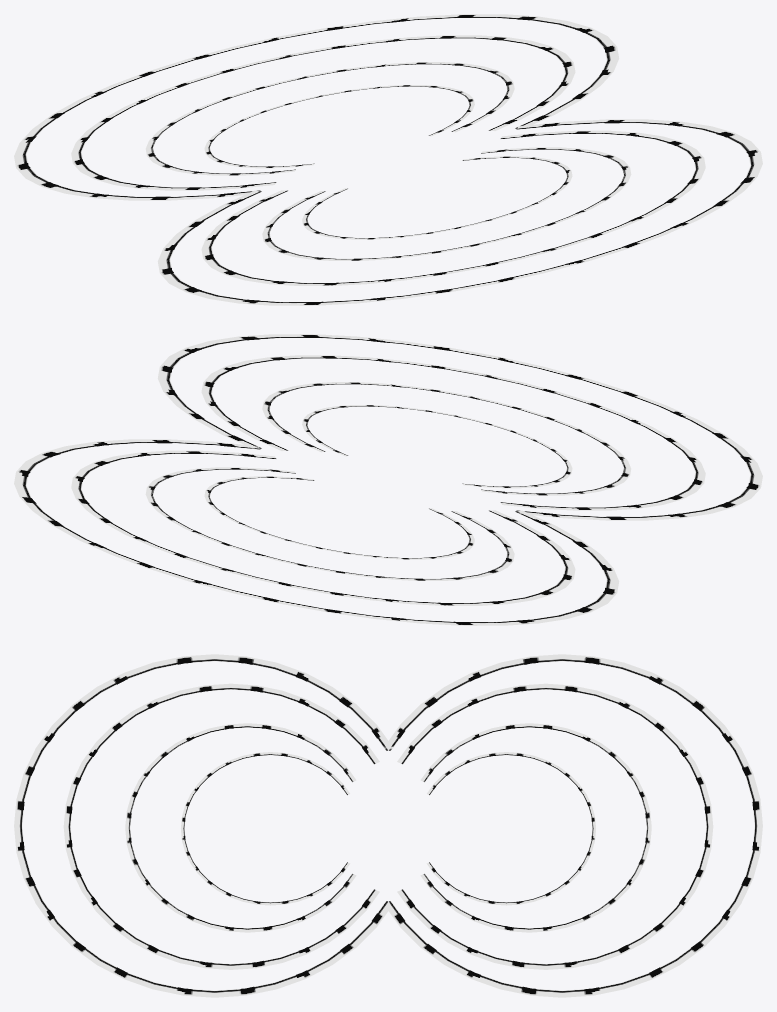
The model's file is magnetLines_v03.fbx.
The picture shows the model from 3 angles, top to bottom: view 1: azimuth 30°, elevation 25°; view 2: azimuth 150°, elevation 25°; view 3: azimuth 270°, elevation 25°; orthographic projection. The views are drawn at different scales.
Visible parts, largest first — view 1: pPipe1 (×2), pPipe2 (×2), pPipe3 (×2), pPipe4 (×2); view 2: pPipe1 (×2), pPipe2 (×2), pPipe3 (×2), pPipe4 (×2); view 3: pPipe1 (×2), pPipe2 (×2), pPipe3 (×2), pPipe4 (×2).
Boxes of the visible parts, x1,y1,x2,y2 form: pPipe1 (×2): (14, 14, 762, 305); pPipe2 (×2): (71, 35, 705, 285); pPipe3 (×2): (145, 62, 631, 260); pPipe4 (×2): (204, 85, 572, 239); pPipe1 (×2): (14, 334, 762, 625); pPipe2 (×2): (71, 355, 705, 605); pPipe3 (×2): (145, 382, 631, 580); pPipe4 (×2): (204, 405, 572, 559); pPipe1 (×2): (14, 654, 762, 997); pPipe2 (×2): (63, 683, 713, 969); pPipe3 (×2): (125, 723, 651, 932); pPipe4 (×2): (181, 752, 595, 905).
Bounding box in the file's own units: 13.68 × 0.0514 × 12.6.
1 material, 1 textured.
